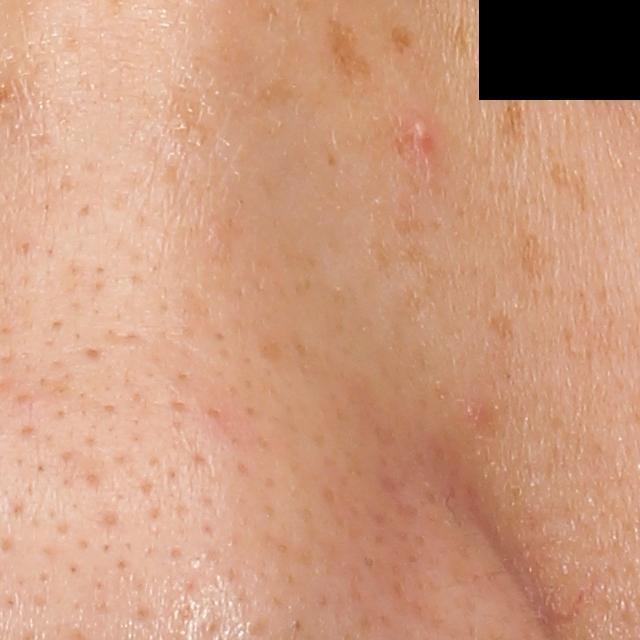melasma: (392, 240, 466, 320), (327, 12, 376, 89), (543, 146, 595, 217), (513, 231, 556, 287), (499, 76, 531, 150), (386, 21, 419, 58)
pustule: (397, 111, 438, 161)
